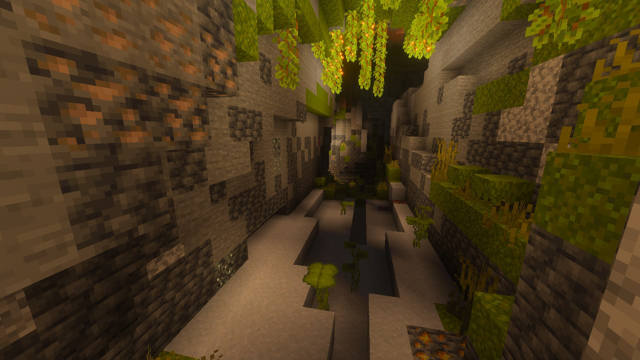gold: (406, 324, 471, 360)
iron: (10, 1, 240, 150)
redstone: (390, 197, 407, 205)
